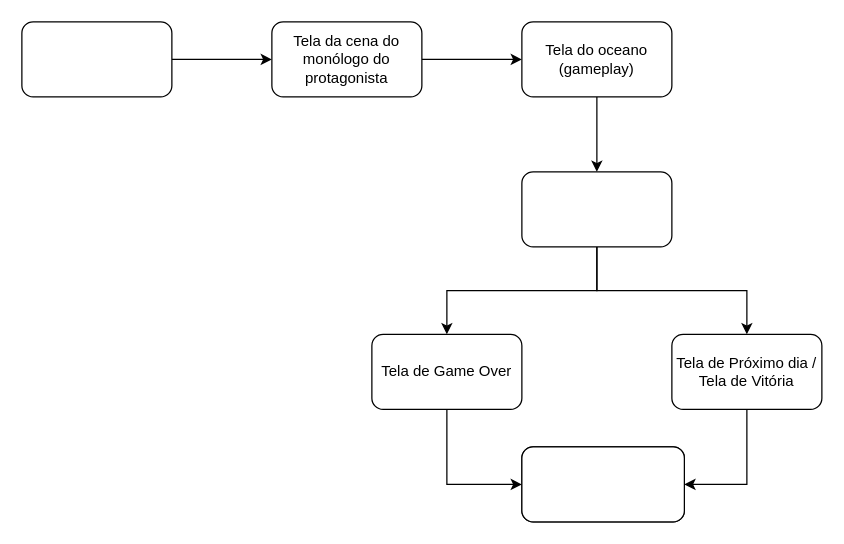
The diagram is 844 pixels wide and 544 high, and some of its shapes have lost their labels. Each missing label, with the centre of its shape:
"Tela de créditos" goes at point (602, 484).
"Tela de Menu" goes at point (96, 59).
"Tela do oceano do mal (gameplay)" goes at point (596, 209).
